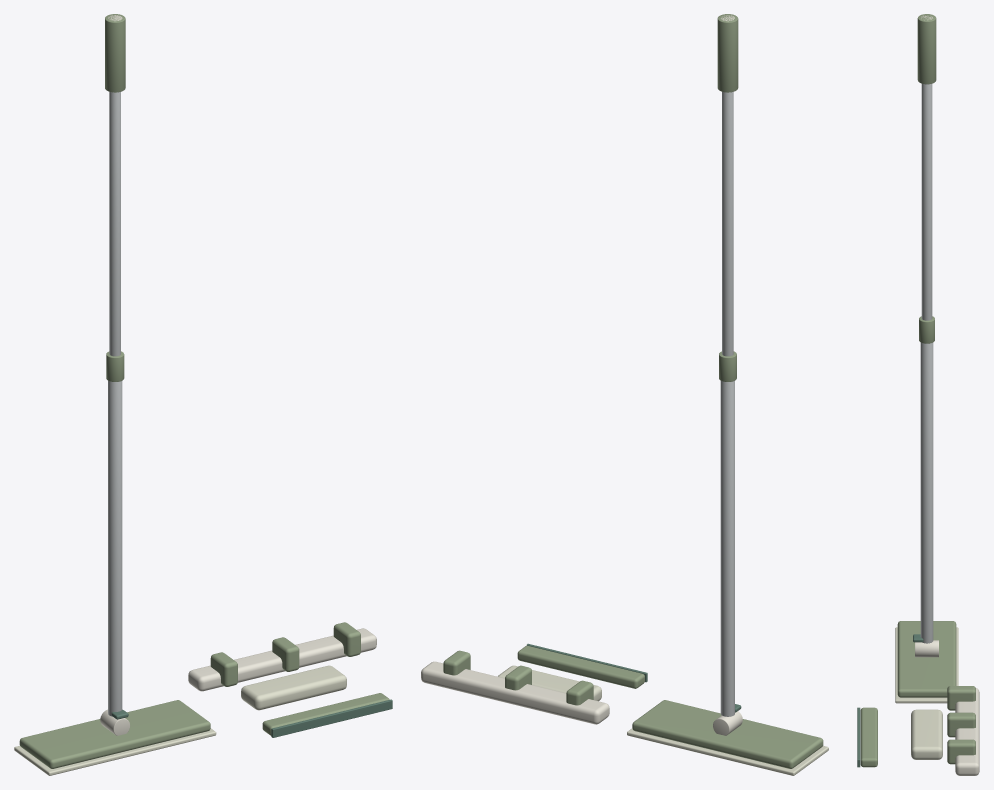
Rendered from compact.glb.
The picture shows the model from 3 angles, left to right: view 1: azimuth 30°, elevation 25°; view 2: azimuth 150°, elevation 25°; view 3: azimuth 270°, elevation 25°; orthographic projection. The views are drawn at different scales.
Visible parts, largest first — view 1: Head carrier, Lower shaft, Upper shaft, Storage rail, Alternative duster textile, Soft grip, Contact pad or blade, Alternative squeegee blade, Alternative squeegee, Rail clip.001, Rail clip.002, Rail clip; view 2: Head carrier, Lower shaft, Storage rail, Upper shaft, Alternative squeegee, Soft grip, Contact pad or blade, Alternative duster textile; view 3: Lower shaft, Head carrier, Upper shaft, Alternative duster textile, Soft grip, Storage rail, Alternative squeegee, Contact pad or blade, Rail clip.002, Rail clip.001, Rail clip, Twist collar (+2 smaller).
Boxes of the visible parts, <box> form: Head carrier: <box>19,700,210,768</box>; Lower shaft: <box>108,380,122,716</box>; Upper shaft: <box>109,92,120,356</box>; Storage rail: <box>188,628,376,691</box>; Alternative duster textile: <box>241,665,346,710</box>; Soft grip: <box>105,14,125,92</box>; Contact pad or blade: <box>14,728,216,775</box>; Alternative squeegee blade: <box>271,699,392,737</box>; Alternative squeegee: <box>262,693,389,735</box>; Rail clip.001: <box>272,637,299,671</box>; Rail clip.002: <box>333,622,360,656</box>; Rail clip: <box>210,652,237,686</box>; Head carrier: <box>632,700,823,768</box>; Lower shaft: <box>720,381,734,716</box>; Storage rail: <box>421,661,609,724</box>; Upper shaft: <box>722,92,733,356</box>; Alternative squeegee: <box>517,645,644,688</box>; Soft grip: <box>717,14,738,92</box>; Contact pad or blade: <box>627,728,828,775</box>; Alternative duster textile: <box>498,665,601,701</box>; Lower shaft: <box>920,342,933,643</box>; Head carrier: <box>897,621,956,697</box>; Upper shaft: <box>921,83,932,320</box>; Alternative duster textile: <box>911,709,942,759</box>; Soft grip: <box>917,14,936,84</box>; Storage rail: <box>955,688,979,775</box>; Alternative squeegee: <box>860,707,877,767</box>; Contact pad or blade: <box>895,627,958,703</box>; Rail clip.002: <box>947,739,975,764</box>; Rail clip.001: <box>947,712,975,737</box>; Rail clip: <box>947,686,975,710</box>; Twist collar: <box>919,316,934,343</box>.
Bounding box in the file's own units: 0.65 × 1.24 × 0.2115.
